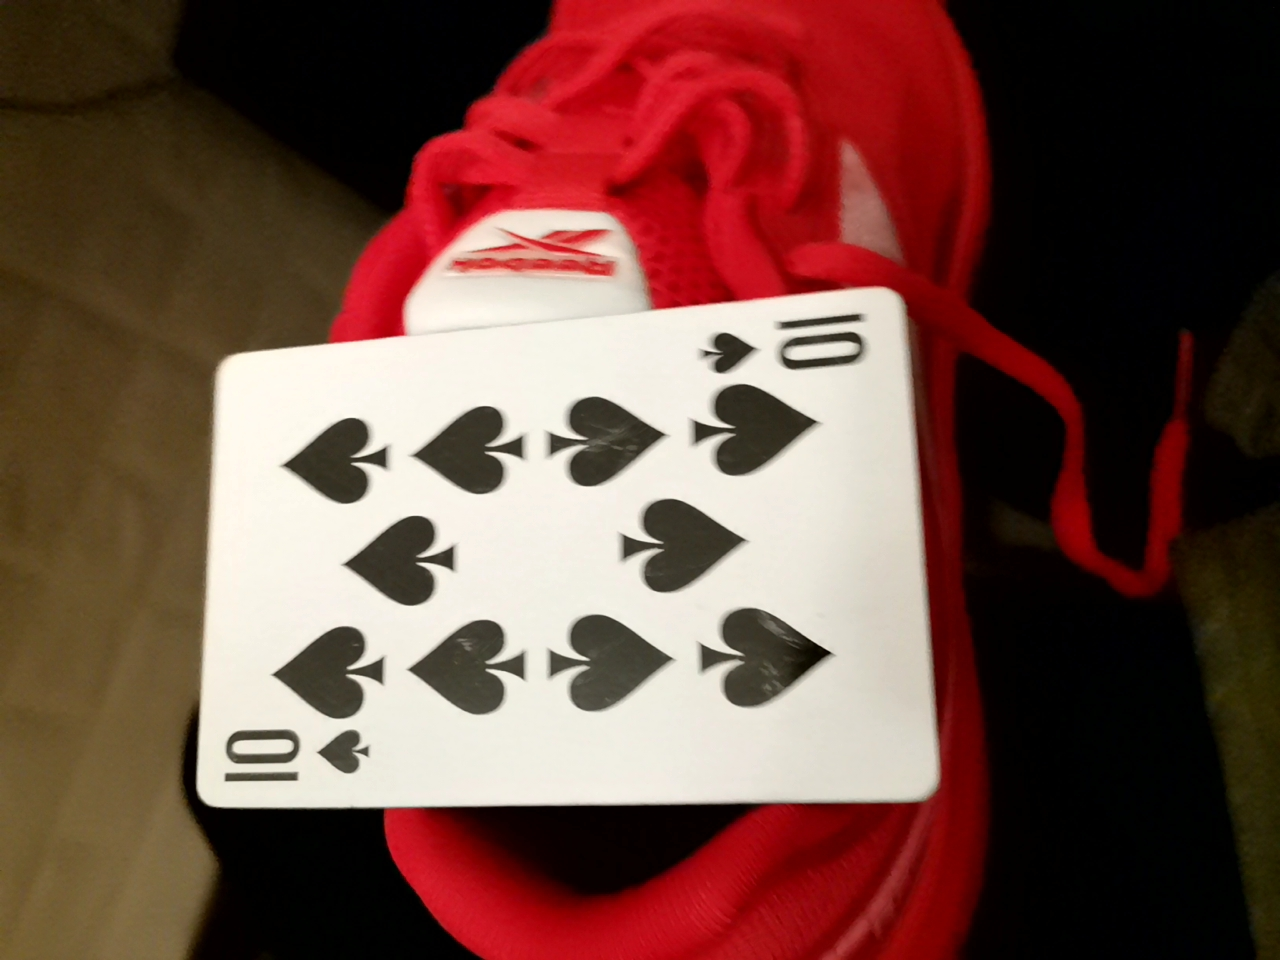ht 10: (195, 271, 994, 803)
